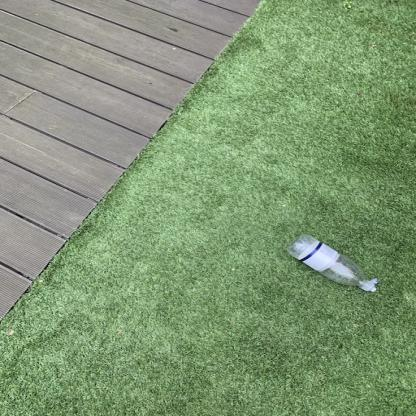trash: (285, 234, 380, 292)
